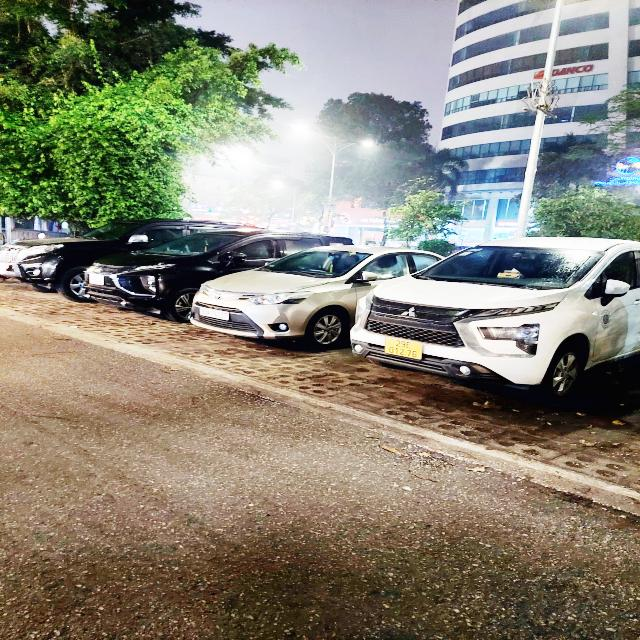license_plate: (385, 337, 425, 362), (199, 307, 232, 323)
